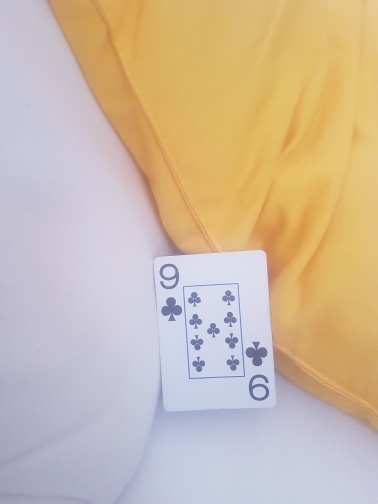nine: (153, 250, 279, 413)
